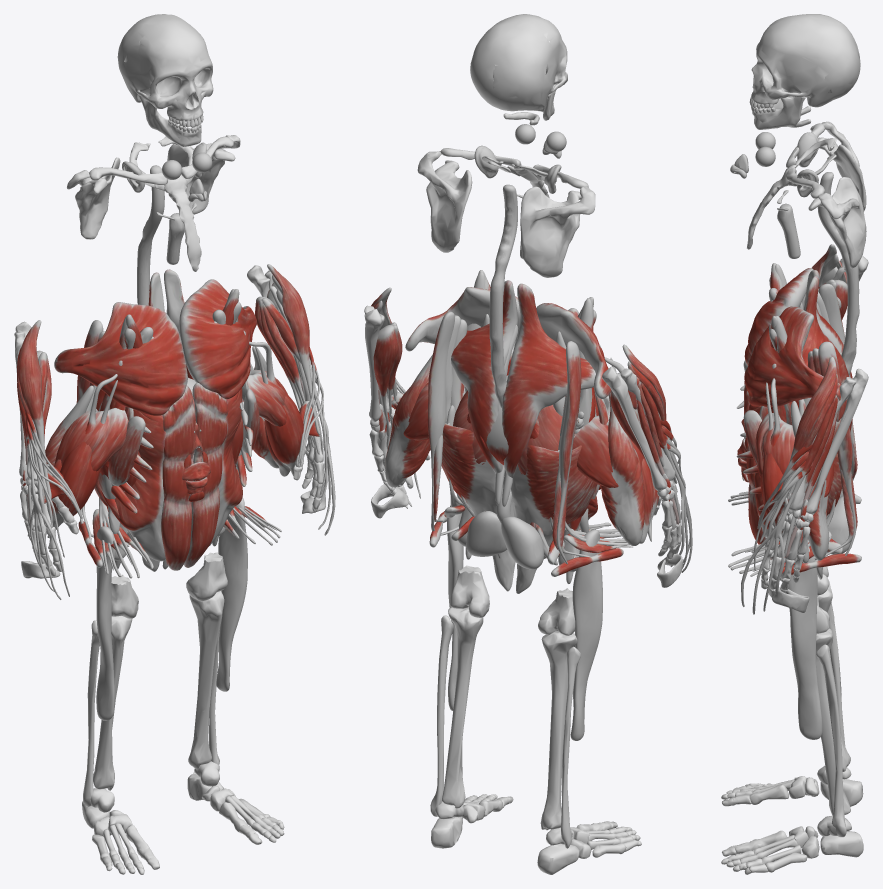
The model's file is human-muscles.mobile.glb.
The picture shows the model from 3 angles, left to right: view 1: azimuth 30°, elevation 25°; view 2: azimuth 150°, elevation 25°; view 3: azimuth 270°, elevation 25°; orthographic projection. The views are drawn at different scales.
Parts seen in each view (by area): view 1: Object_29, Object_23, Object_11, Object_31, Object_33, Object_5, Object_25, Object_13, Object_21, Object_3, Object_17, Object_15 (+1 smaller); view 2: Object_29, Object_13, Object_11, Object_25, Object_33, Object_31, Object_23, Object_5, Object_3, Object_17, Object_21, Object_7 (+1 smaller); view 3: Object_29, Object_11, Object_23, Object_31, Object_25, Object_33, Object_13, Object_5, Object_21, Object_17, Object_3, Object_7.
Boxes of the visible parts, x1,y1,x2,y2 form: Object_29: (14, 14, 324, 874); Object_23: (54, 279, 257, 570); Object_11: (21, 142, 325, 720); Object_31: (17, 264, 335, 599); Object_33: (45, 341, 303, 537); Object_5: (55, 369, 287, 471); Object_25: (76, 320, 281, 578); Object_13: (94, 269, 253, 571); Object_21: (23, 347, 327, 557); Object_3: (98, 380, 259, 499); Object_17: (98, 289, 243, 568); Object_15: (182, 377, 210, 501); Object_29: (364, 14, 681, 874); Object_13: (441, 280, 600, 593); Object_11: (371, 124, 682, 740); Object_25: (427, 311, 633, 576); Object_33: (385, 354, 659, 545); Object_31: (371, 287, 692, 572); Object_23: (405, 287, 611, 558); Object_5: (403, 382, 643, 487); Object_3: (453, 390, 599, 505); Object_17: (462, 270, 596, 583); Object_21: (378, 378, 682, 519); Object_7: (458, 308, 600, 572); Object_29: (721, 14, 868, 874); Object_11: (730, 132, 859, 739); Object_23: (744, 268, 841, 559); Object_31: (741, 244, 847, 614); Object_25: (728, 283, 861, 576); Object_33: (760, 378, 829, 563); Object_13: (736, 270, 852, 579); Object_5: (755, 413, 834, 497); Object_21: (753, 444, 813, 570); Object_17: (770, 263, 811, 422); Object_3: (743, 360, 768, 468); Object_7: (769, 277, 814, 556).
Bounding box in the file's own units: 856503 × 2230422 × 365123.
16 materials, 14 textured.
